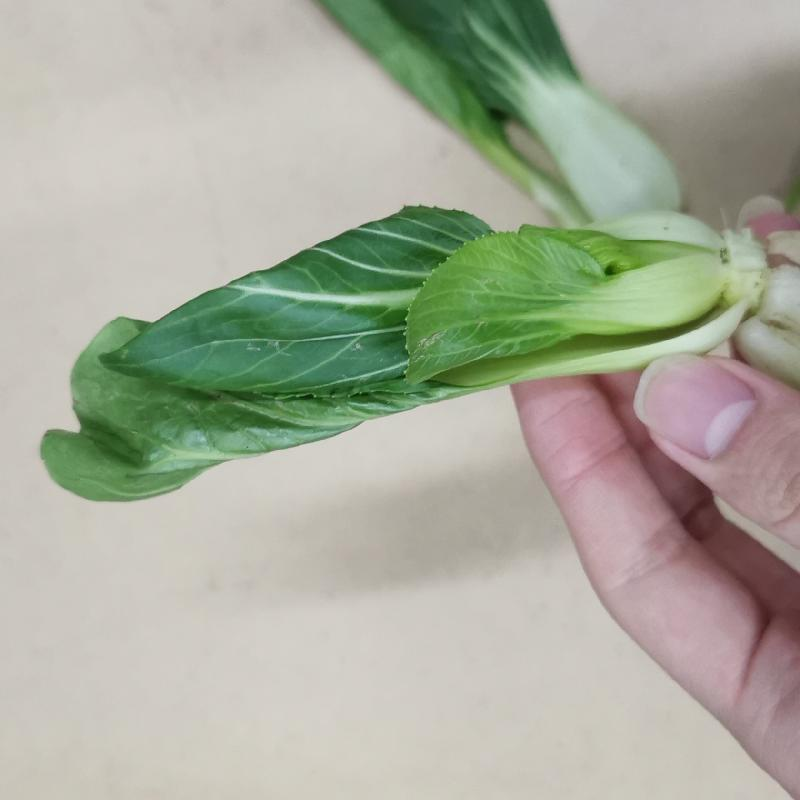green vegatable: (26, 202, 762, 496)
